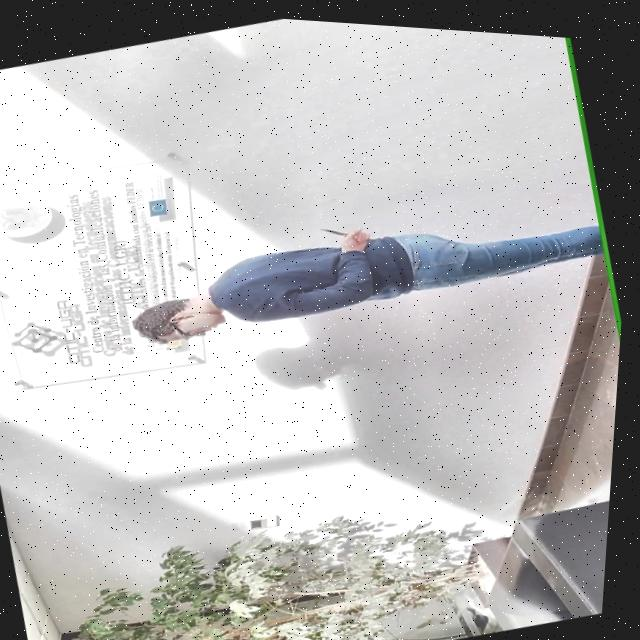knife: (320, 217, 353, 238)
